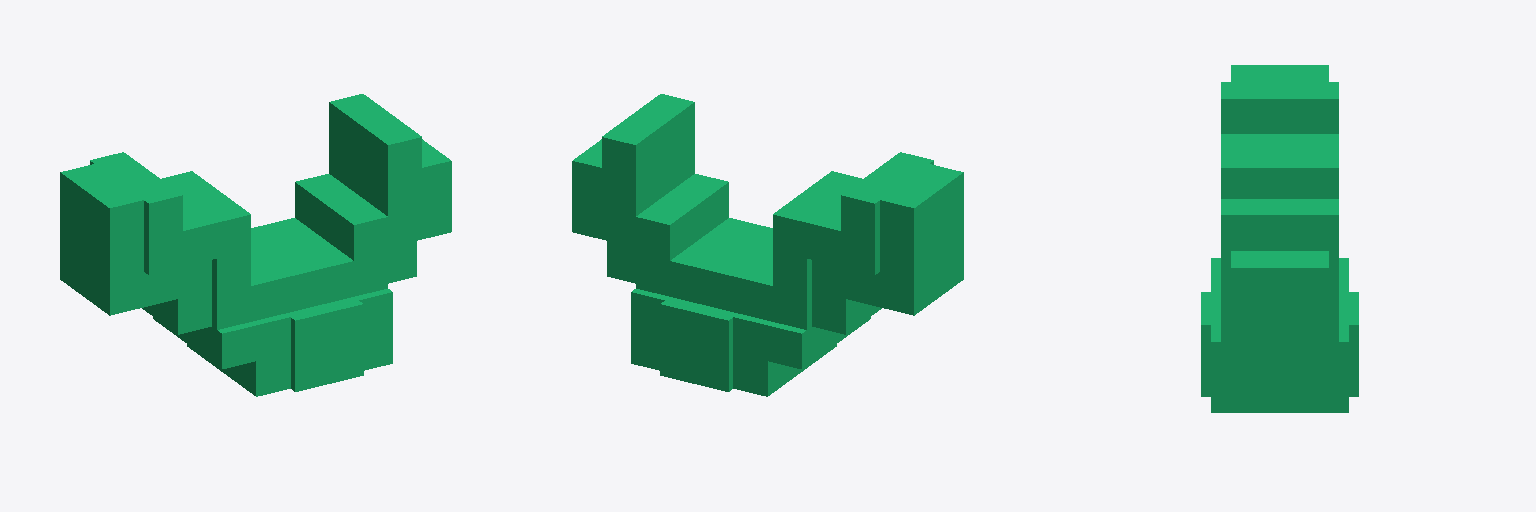
The picture shows the model from 3 angles: view 1: azimuth 30°, elevation 25°; view 2: azimuth 150°, elevation 25°; view 3: azimuth 270°, elevation 25°; orthographic projection.
Size of the model in its own units: 10 by 6 by 4.
1 materials, 1 textured.